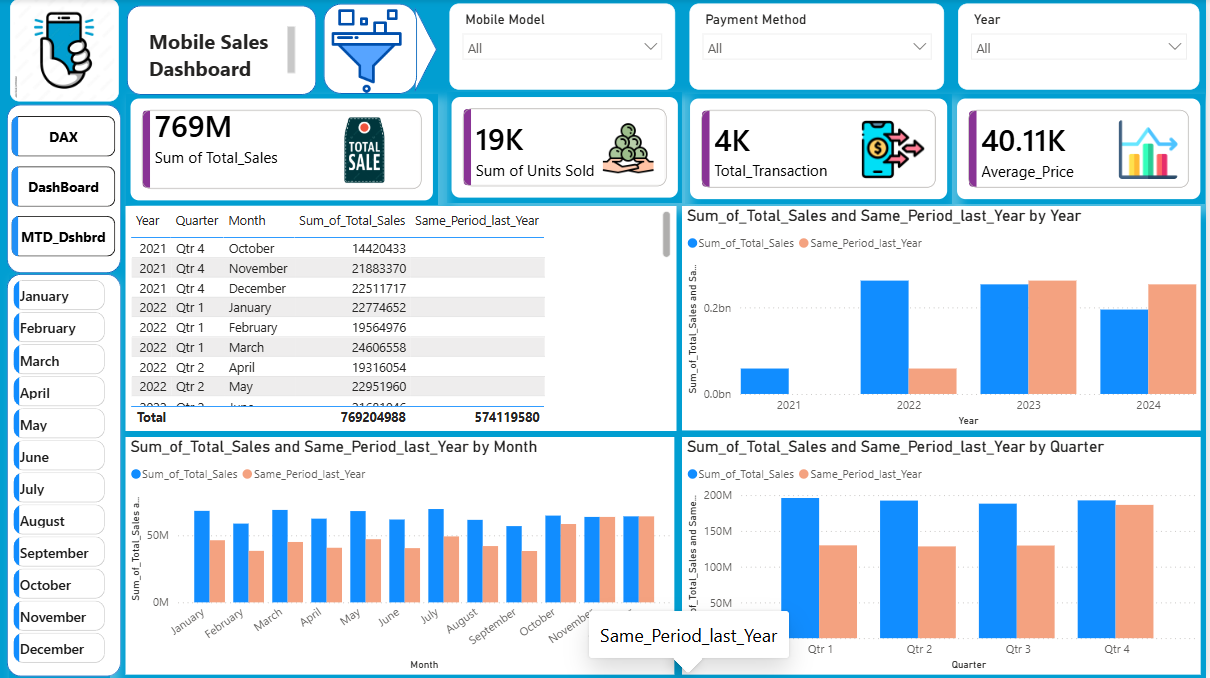

The page's visual inventory and layout, read from the dashboard file:
{"tool":"powerbi","page":{"name":"Same_Period_last_Year","canvas":[1280,720],"ordinal":3},"visuals":[{"type":"shape","box":[0,109,130.1,183],"z":0},{"type":"image","box":[12,0,115,109],"z":1000},{"type":"cardVisual","fields":{"Data":["Sum(Mobile_Sales_Data.Total_Sales)"]},"box":[135,101,331,118],"z":2000},{"type":"cardVisual","fields":{"Data":["Mobile_Sales_Data.Total_Transaction"]},"box":[728.7,100,283,117.1],"z":3000},{"type":"cardVisual","fields":{"Data":["Sum(Mobile_Sales_Data.Units Sold)"]},"box":[475,99.2,250,117.1],"z":4000},{"type":"cardVisual","fields":{"Data":["Mobile_Sales_Data.Average_Price"]},"box":[1011.7,100,268.4,117.1],"z":5000},{"type":"shape","box":[128,4,210,99],"z":6000},{"type":"shape","box":[418,8.1,47.2,91.1],"z":7000},{"type":"slicer","fields":{"Values":["Mobile_Sales_Data.Payment Method"]},"box":[734,5,270,91],"z":8000},{"type":"slicer","fields":{"Values":["Custom_Calendar.Date.Variation.Date Hierarchy.Year"]},"box":[1018.2,5,256,91],"z":9000},{"type":"shape","box":[344.8,4.9,99.2,96],"z":10000},{"type":"image","box":[336.7,9.8,107.4,91.1],"z":11000},{"type":"textbox","box":[154.5,24.4,165.9,63.4],"z":12000},{"type":"slicer","fields":{"Values":["Mobile_Sales_Data.Mobile Model"]},"box":[478.2,5,239.1,91.1],"z":13000},{"type":"shape","box":[0,289.5,130.1,431],"z":14000},{"type":"advancedSlicerVisual","fields":{"Values":["Custom_Calendar.Date.Variation.Date Hierarchy.Month"]},"box":[11.4,292.8,107.4,427.8],"z":15000},{"type":"tableEx","fields":{"Values":["Custom_Calendar.Date.Variation.Date Hierarchy.Year","Custom_Calendar.Date.Variation.Date Hierarchy.Quarter","Custom_Calendar.Date.Variation.Date Hierarchy.Month","Mobile_Sales_Data.Sum_of_Total_Sales","Mobile_Sales_Data.Same_Period_last_Year"]},"box":[135,220,583,238],"z":16000},{"type":"clusteredColumnChart","fields":{"Category":["Custom_Calendar.Date.Variation.Date Hierarchy.Year","Custom_Calendar.Date.Variation.Date Hierarchy.Quarter","Custom_Calendar.Date.Variation.Date Hierarchy.Month"],"Y":["Mobile_Sales_Data.Sum_of_Total_Sales","Mobile_Sales_Data.Same_Period_last_Year"]},"box":[725.4,220,550,238],"z":16001},{"type":"clusteredColumnChart","fields":{"Category":["Custom_Calendar.Date.Variation.Date Hierarchy.Year","Custom_Calendar.Date.Variation.Date Hierarchy.Quarter","Custom_Calendar.Date.Variation.Date Hierarchy.Month"],"Y":["Mobile_Sales_Data.Sum_of_Total_Sales","Mobile_Sales_Data.Same_Period_last_Year"]},"box":[135,464,582.3,252],"z":16002},{"type":"clusteredColumnChart","fields":{"Category":["Custom_Calendar.Date.Variation.Date Hierarchy.Year","Custom_Calendar.Date.Variation.Date Hierarchy.Quarter","Custom_Calendar.Date.Variation.Date Hierarchy.Month"],"Y":["Mobile_Sales_Data.Sum_of_Total_Sales","Mobile_Sales_Data.Same_Period_last_Year"]},"box":[725.4,464,550,252],"z":16003},{"type":"pageNavigator","box":[14.6,124,110.6,150],"z":16004}]}

Visuals, with their boxes in screenshot pixels (x1, y1, x2, y2), scaled from the page's 1280x720 canvas onto the 1210x678 screenshot:
shape: (left=0, top=103, right=123, bottom=275)
image: (left=11, top=0, right=120, bottom=103)
cardVisual - Sum(Mobile_Sales_Data.Total_Sales): (left=128, top=95, right=441, bottom=206)
cardVisual - Mobile_Sales_Data.Total_Transaction: (left=689, top=94, right=956, bottom=204)
cardVisual - Sum(Mobile_Sales_Data.Units Sold): (left=449, top=93, right=685, bottom=204)
cardVisual - Mobile_Sales_Data.Average_Price: (left=956, top=94, right=1209, bottom=204)
shape: (left=121, top=4, right=320, bottom=97)
shape: (left=395, top=8, right=440, bottom=93)
slicer - Mobile_Sales_Data.Payment Method: (left=694, top=5, right=949, bottom=90)
slicer - Custom_Calendar.Date.Variation.Date Hierarchy.Year: (left=963, top=5, right=1205, bottom=90)
shape: (left=326, top=5, right=420, bottom=95)
image: (left=318, top=9, right=420, bottom=95)
textbox: (left=146, top=23, right=303, bottom=83)
slicer - Mobile_Sales_Data.Mobile Model: (left=452, top=5, right=678, bottom=90)
shape: (left=0, top=273, right=123, bottom=677)
advancedSlicerVisual - Custom_Calendar.Date.Variation.Date Hierarchy.Month: (left=11, top=276, right=112, bottom=677)
tableEx - Custom_Calendar.Date.Variation.Date Hierarchy.Year x Custom_Calendar.Date.Variation.Date Hierarchy.Quarter: (left=128, top=207, right=679, bottom=431)
clusteredColumnChart - Custom_Calendar.Date.Variation.Date Hierarchy.Year x Custom_Calendar.Date.Variation.Date Hierarchy.Quarter: (left=686, top=207, right=1206, bottom=431)
clusteredColumnChart - Custom_Calendar.Date.Variation.Date Hierarchy.Year x Custom_Calendar.Date.Variation.Date Hierarchy.Quarter: (left=128, top=437, right=678, bottom=674)
clusteredColumnChart - Custom_Calendar.Date.Variation.Date Hierarchy.Year x Custom_Calendar.Date.Variation.Date Hierarchy.Quarter: (left=686, top=437, right=1206, bottom=674)
pageNavigator: (left=14, top=117, right=118, bottom=258)
